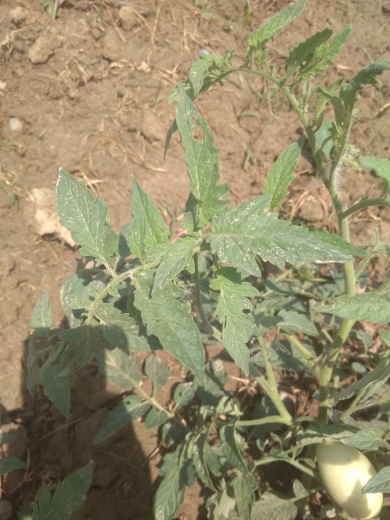tomato: (300, 426, 388, 520)
tomato diseased leaf: (29, 171, 120, 285)
tomato plant: (15, 77, 378, 511)
